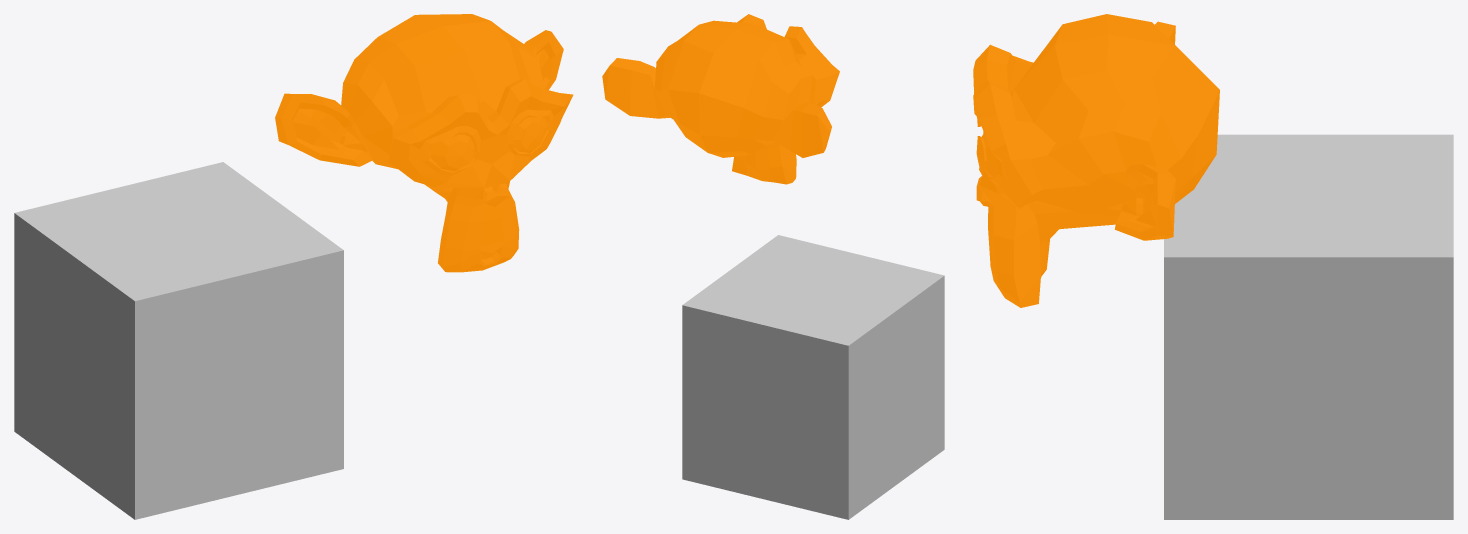
The model's file is emissive_monkey.gltf.
3 renders of one model, left to right at view 1: azimuth 30°, elevation 25°; view 2: azimuth 150°, elevation 25°; view 3: azimuth 270°, elevation 25°, orthographic. The views are drawn at different scales.
Visible parts, largest first — view 1: Cube, Suzanne; view 2: Cube, Suzanne; view 3: Cube, Suzanne.
Part boxes in pixels (x1=…): Cube: x1=14, y1=162, x2=343, y2=519; Suzanne: x1=275, y1=14, x2=573, y2=272; Cube: x1=682, y1=235, x2=944, y2=519; Suzanne: x1=602, y1=14, x2=839, y2=184; Cube: x1=1164, y1=134, x2=1453, y2=519; Suzanne: x1=973, y1=14, x2=1219, y2=307.
Size of the model in its own units: 4.1 by 4.04 by 3.32.
